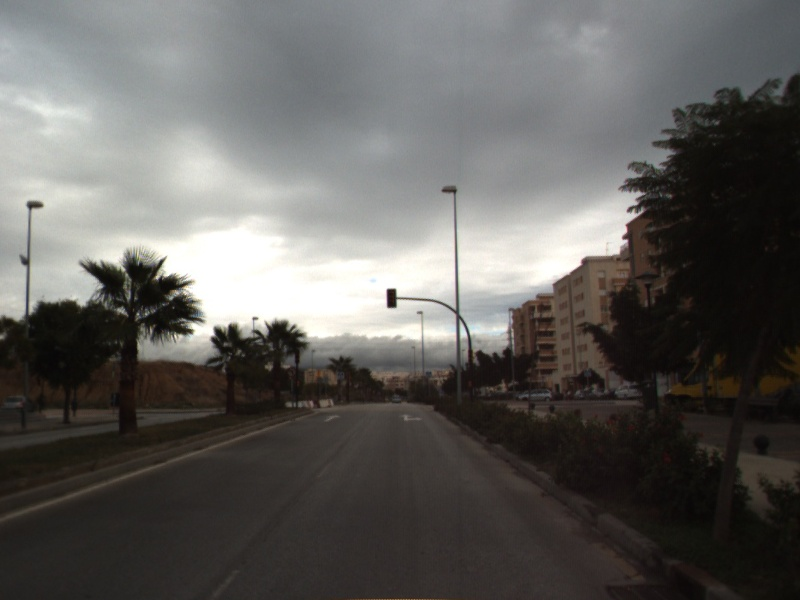STRAIGHT: (322, 413, 343, 424)
STRAIGHT_RIGHT: (397, 412, 425, 423)
